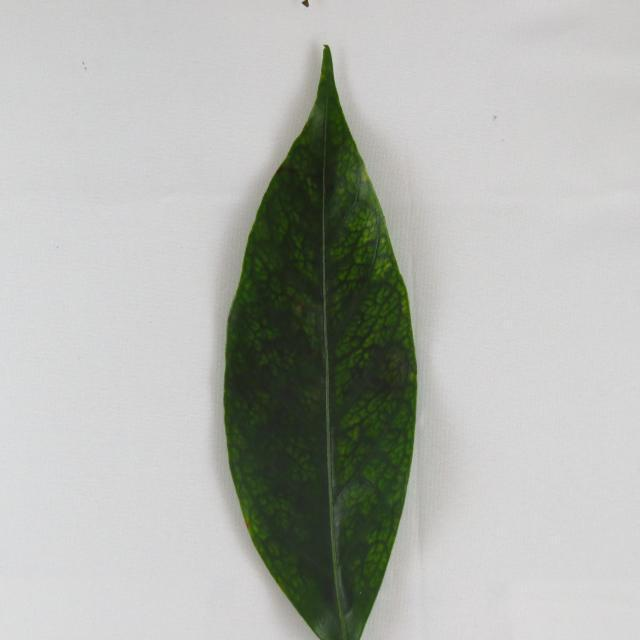DeficienciaNutricional-Manganeso: (224, 47, 416, 638)
